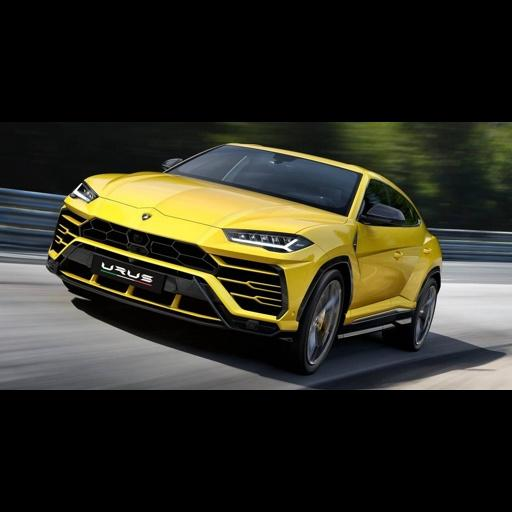suv: (47, 144, 441, 374)
